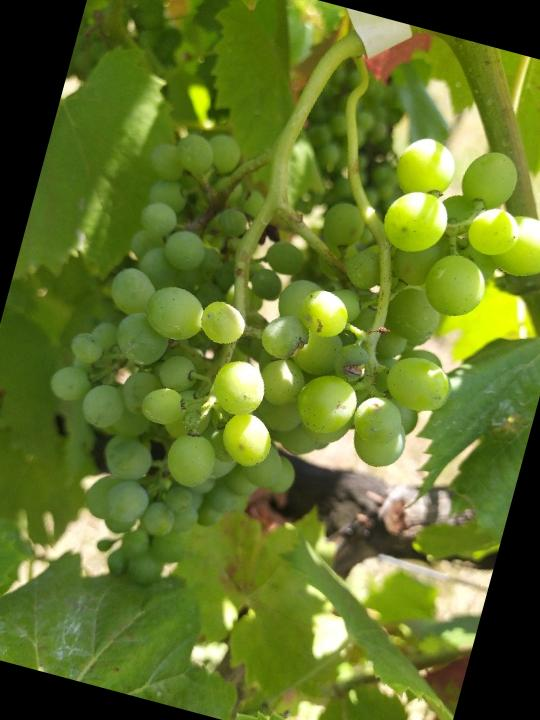grape: (4, 54, 540, 669)
